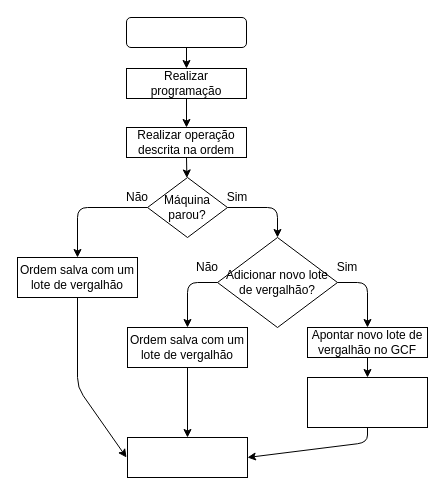
The diagram is 445 pixels wide and 495 high, and some of its shapes have lost their labels. Each missing label, with the box of its shape:
Dar continuidade na ordem: (126, 436, 248, 478)
Ordem salva com mais de um lote de vergalhão: (306, 376, 428, 428)
Receber necessidade: (126, 16, 246, 48)
